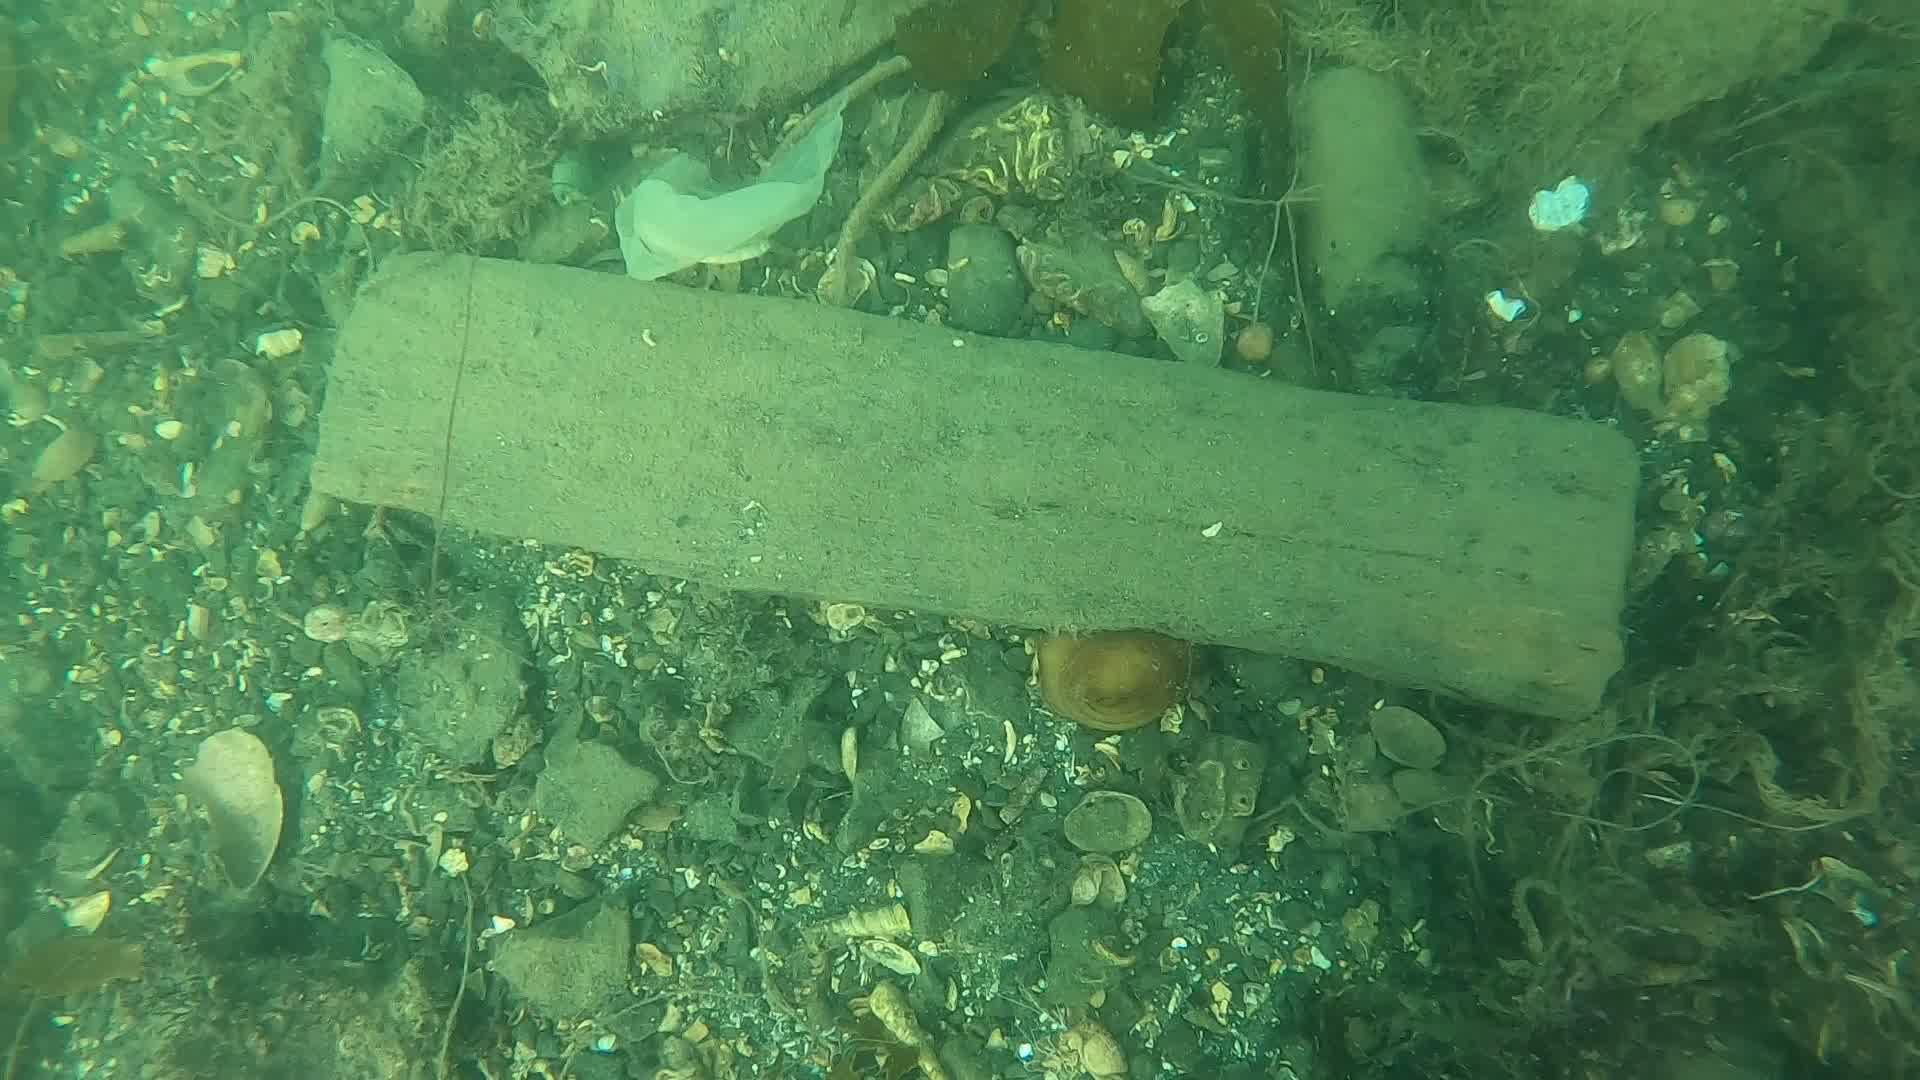wood: (297, 243, 1640, 727)
